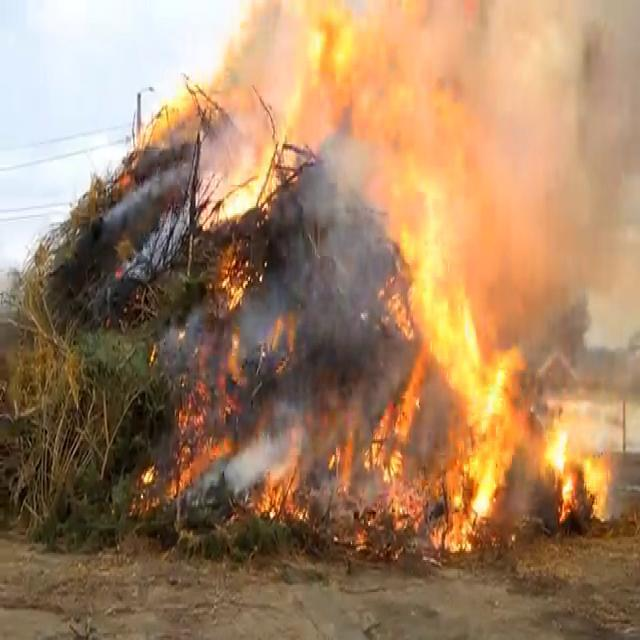fire: (396, 126, 456, 239), (408, 54, 462, 150), (472, 348, 520, 450), (409, 236, 462, 324), (430, 304, 486, 386), (310, 0, 350, 82), (360, 35, 400, 116), (216, 147, 266, 209), (408, 4, 456, 52), (286, 85, 321, 148), (268, 480, 308, 522), (471, 458, 493, 506), (584, 454, 611, 492), (548, 426, 566, 468), (450, 514, 472, 548), (188, 452, 214, 480), (159, 106, 178, 136), (596, 493, 610, 519)
smoke: (568, 178, 640, 270), (571, 96, 640, 176), (588, 5, 638, 92), (534, 86, 577, 156), (553, 16, 594, 75), (520, 5, 560, 64), (268, 12, 304, 66), (488, 6, 530, 51), (248, 5, 282, 42), (236, 40, 256, 90), (250, 442, 278, 473), (226, 458, 256, 486)
